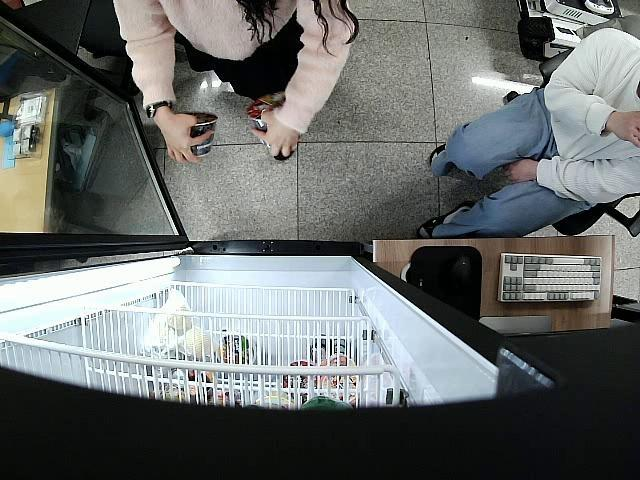07_buldak_L: (249, 92, 304, 148), (178, 112, 218, 159)
